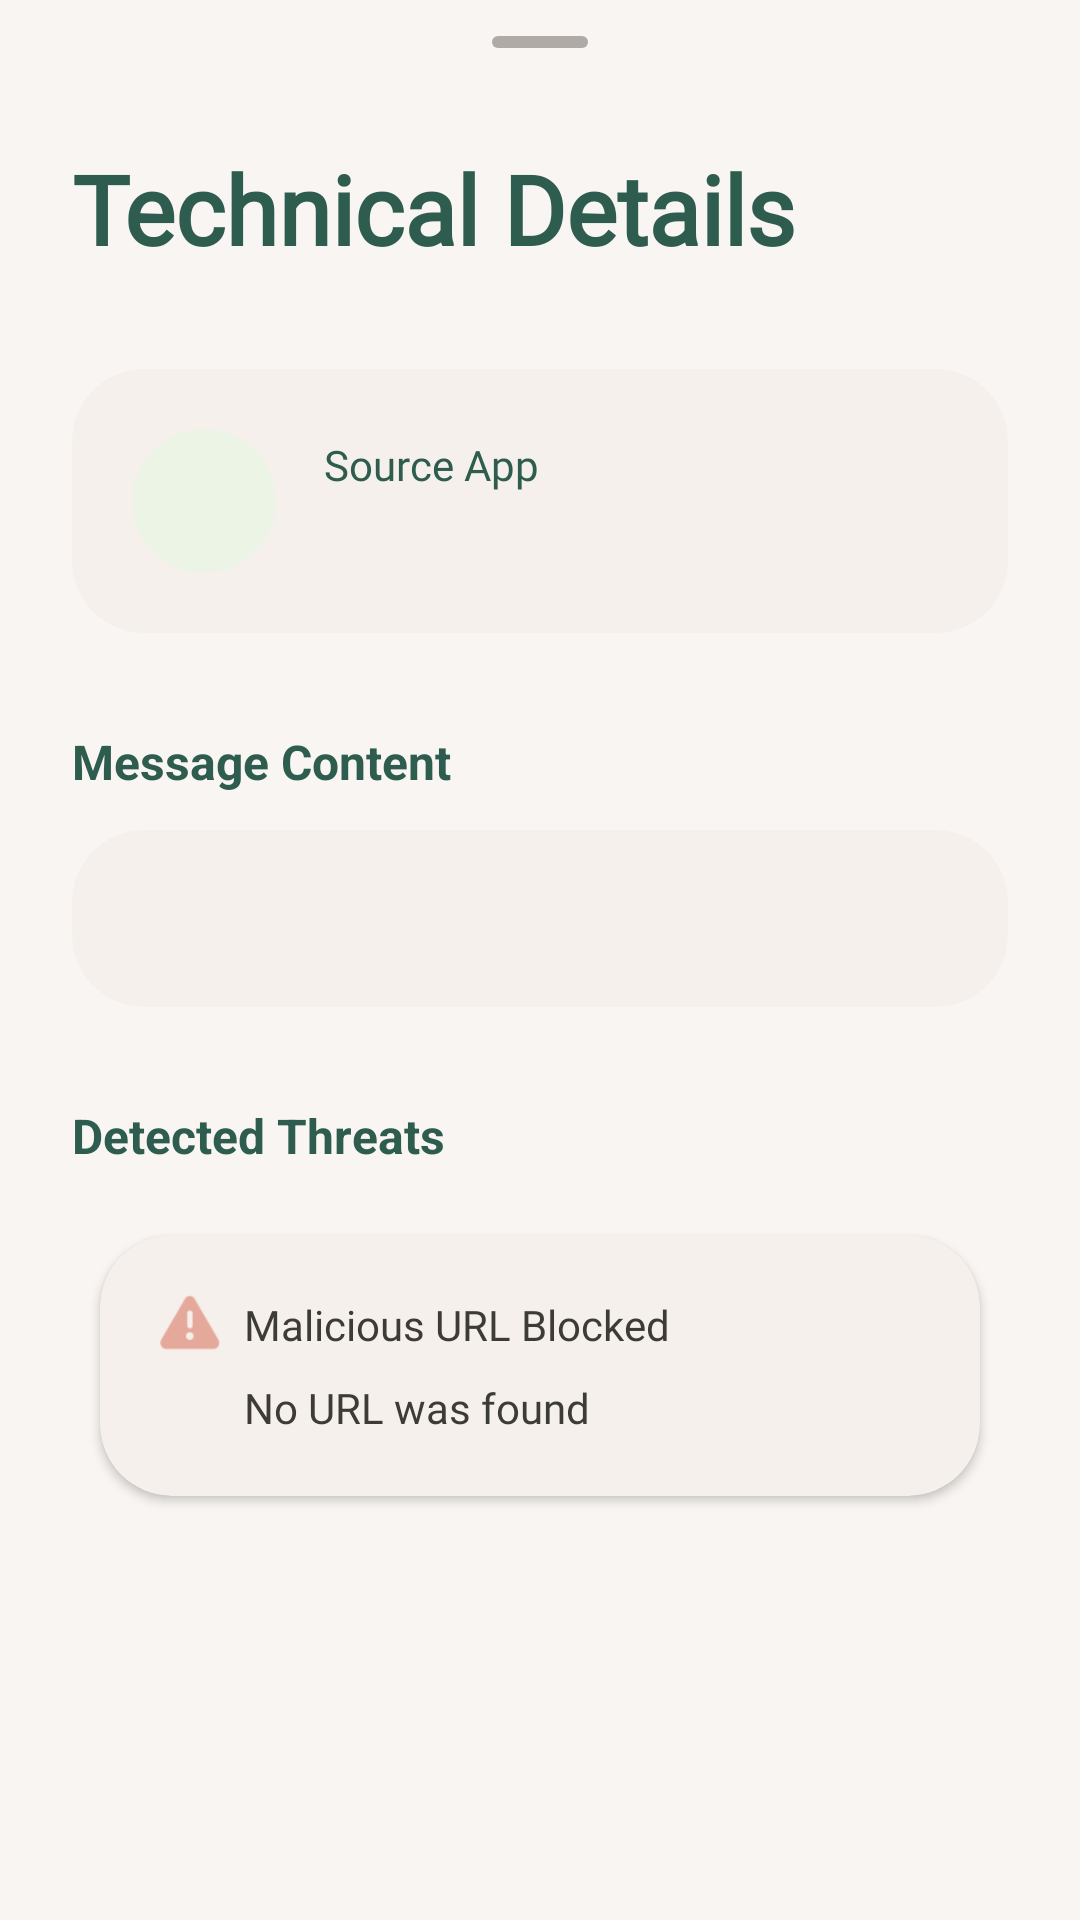

Icon bounding boxes for this 1080*1920 phone screenshot, format [x1=x1, y1=y1, x2=x2, y2=y2]:
alert: [x1=160, y1=1296, x2=220, y2=1349]
